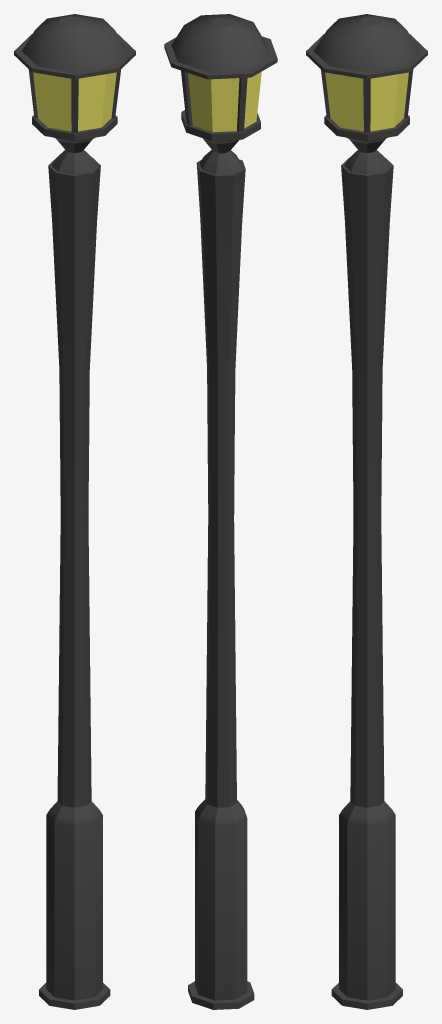
File: SM_streetlamp_03.fbx
3 views of the same model, side by side, from view 1: azimuth 90°, elevation 25°; view 2: azimuth 210°, elevation 25°; view 3: azimuth 270°, elevation 25° (orthographic).
Visible parts, largest first — view 1: Cylinder013; view 2: Cylinder013; view 3: Cylinder013.
Part boxes in pixels (x1,y1,x2,y2): Cylinder013: (14,14,135,1009); Cylinder013: (164,14,277,1009); Cylinder013: (306,14,427,1009).
Size of the model in its own units: 16.62 by 156 by 17.66.
